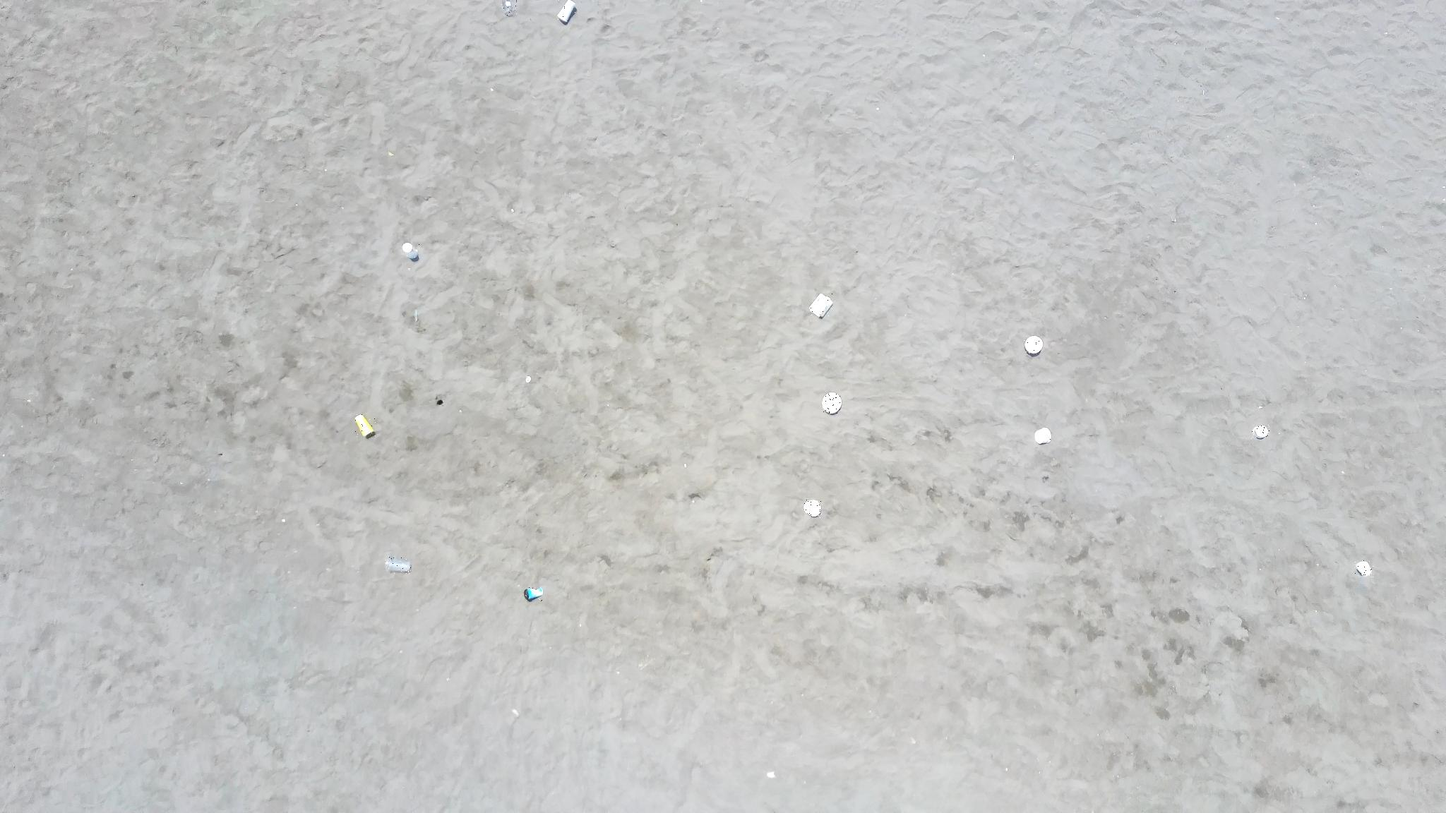Garbage: (808, 293, 832, 318), (354, 414, 375, 437), (822, 392, 841, 414), (558, 0, 576, 23), (385, 557, 411, 572), (1024, 337, 1042, 356), (401, 242, 418, 260), (1034, 427, 1051, 444), (804, 499, 820, 517), (413, 307, 424, 332), (523, 589, 542, 601), (1354, 561, 1370, 574), (503, 0, 515, 16), (1253, 426, 1268, 438), (434, 396, 442, 404), (766, 771, 775, 778), (524, 376, 531, 383)
